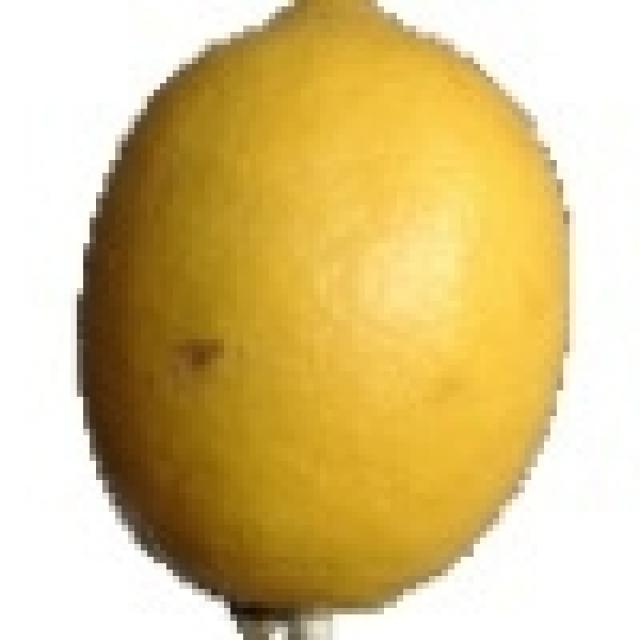lemon: (85, 0, 566, 639)
